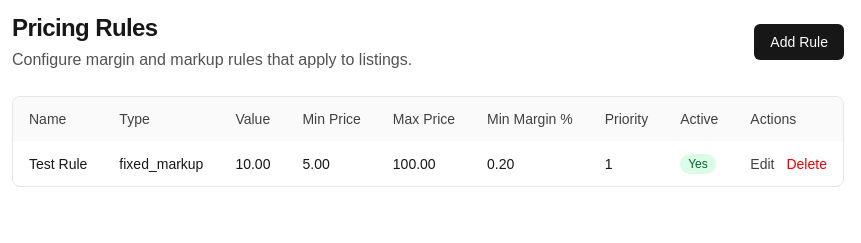
Test: PricingPage › deletes a rule after confirmation
This screenshot has width=861, height=243.
Check: the text "Test Rule" is shown, box [13,141,103,186]
Click the button "Delete" at (807, 164), box [786,154,827,174]
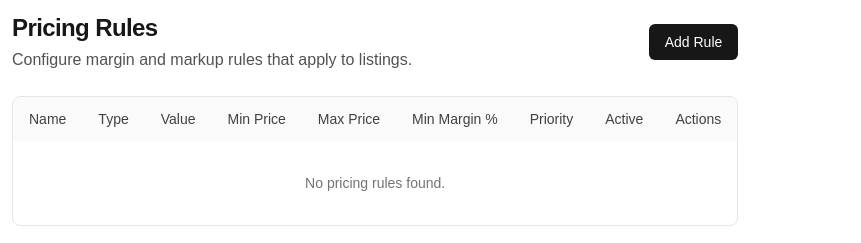
Check: the text "Test Rule" is gone
